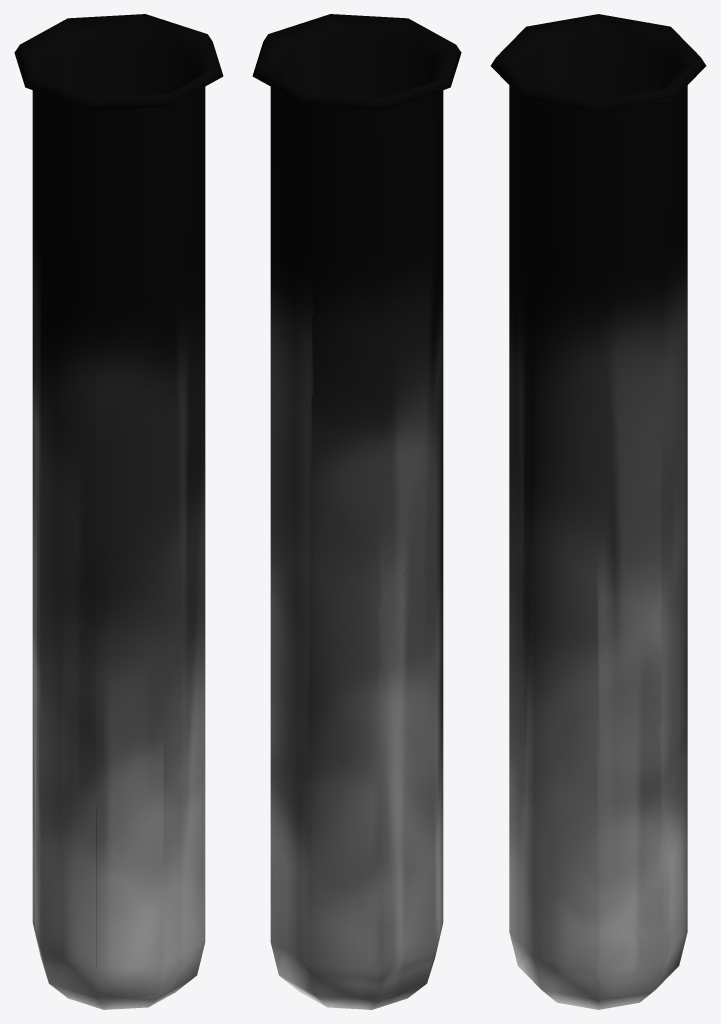
The model's file is Tubo.fbx.
3 renders of one model, left to right at view 1: azimuth 30°, elevation 25°; view 2: azimuth 150°, elevation 25°; view 3: azimuth 270°, elevation 25°, orthographic.
Parts seen in each view (by area): view 1: Test_tube; view 2: Test_tube; view 3: Test_tube.
Part boxes in pixels (x1=…): Test_tube: x1=14, y1=14, x2=223, y2=1009; Test_tube: x1=252, y1=14, x2=461, y2=1009; Test_tube: x1=490, y1=14, x2=706, y2=1009.
Bounding box in the file's own units: 1938 × 9286 × 1938.
